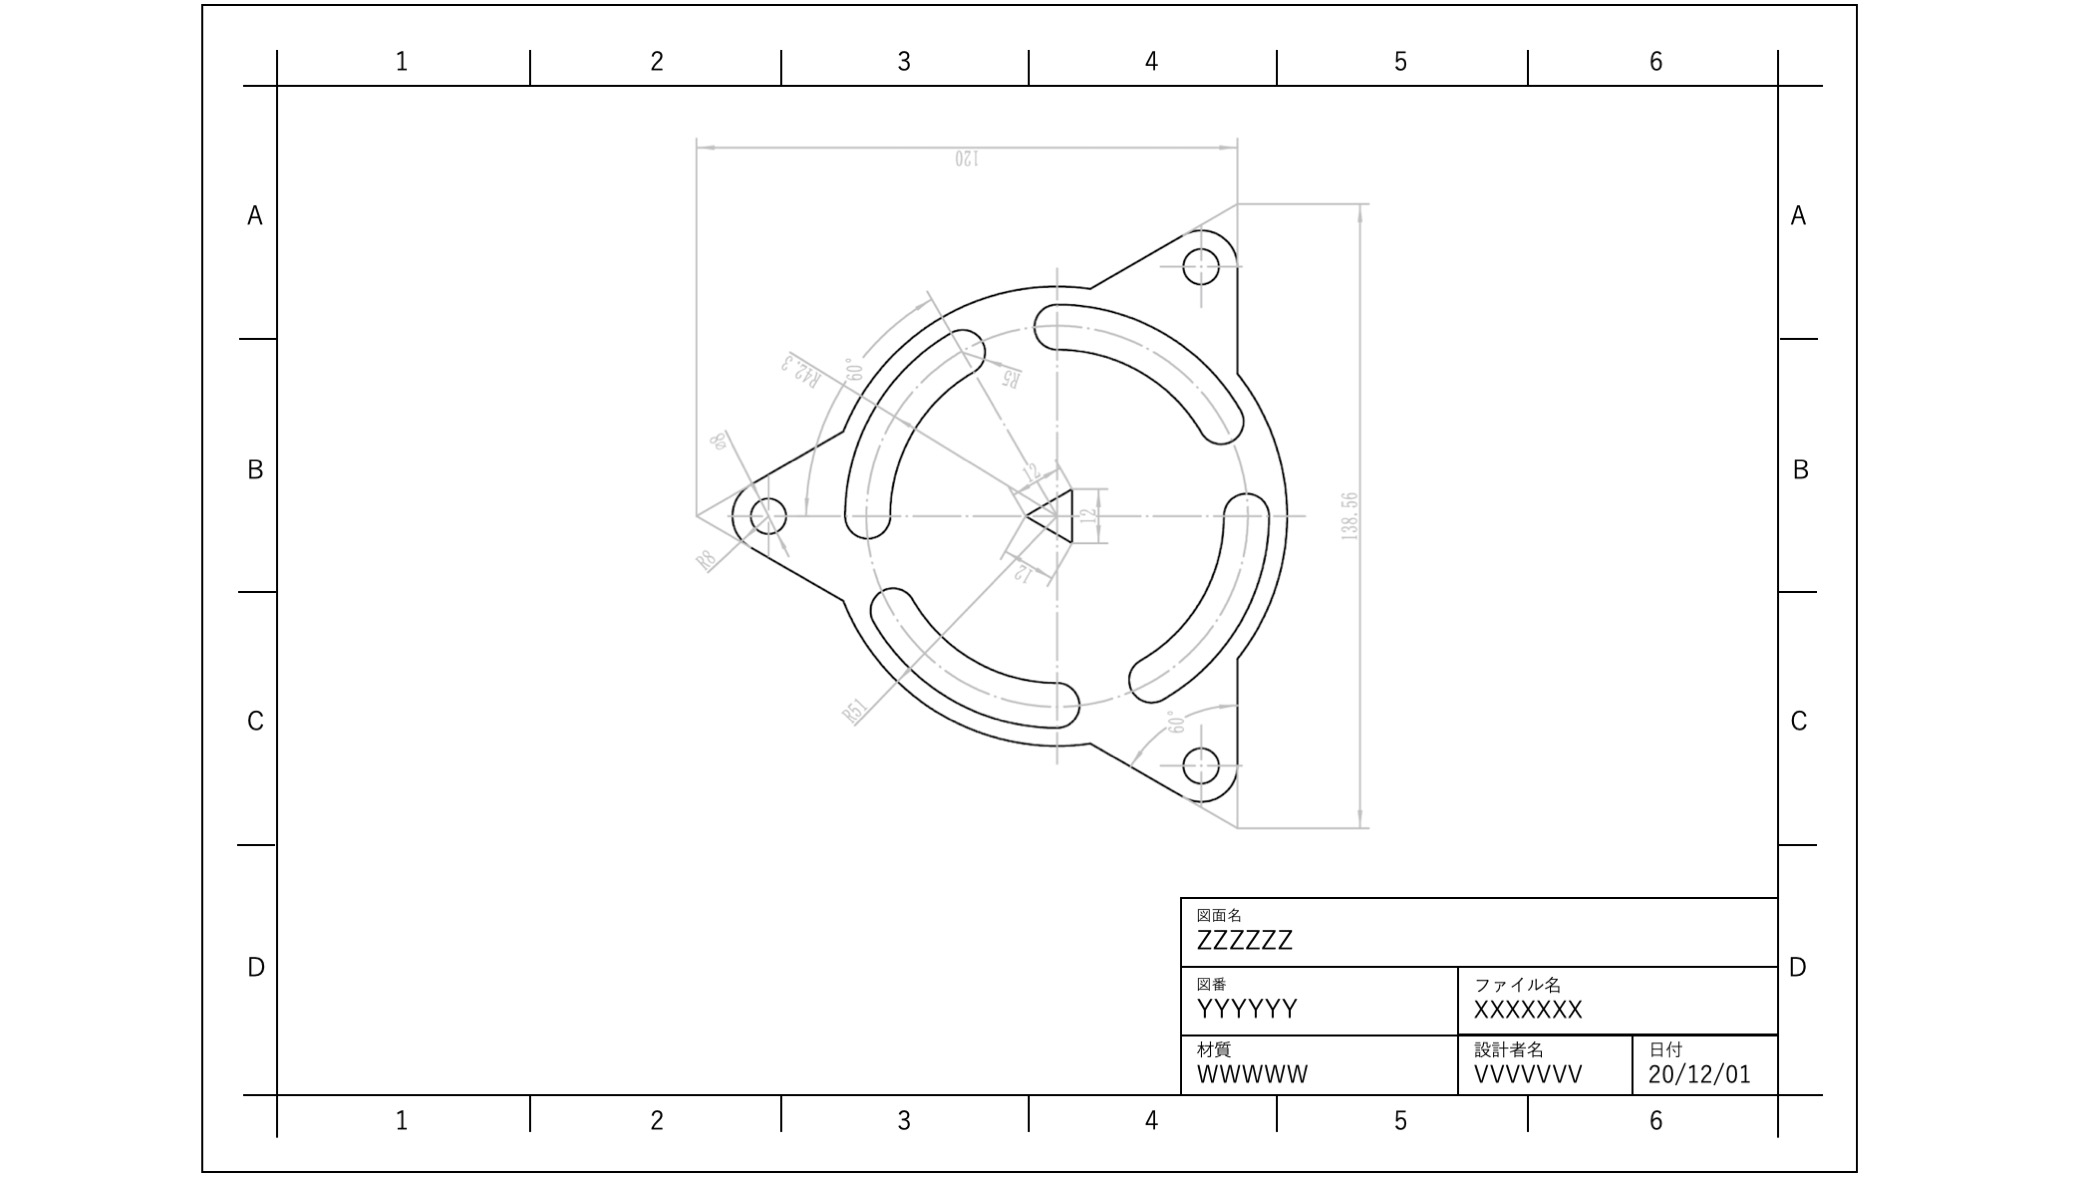circle: (1178, 234, 1230, 297), (1178, 734, 1227, 787), (743, 490, 792, 538)
round_rectangle: (854, 577, 1087, 733), (842, 309, 991, 547), (1033, 290, 1249, 447), (1125, 493, 1279, 709)
triangle: (1020, 479, 1087, 547)
